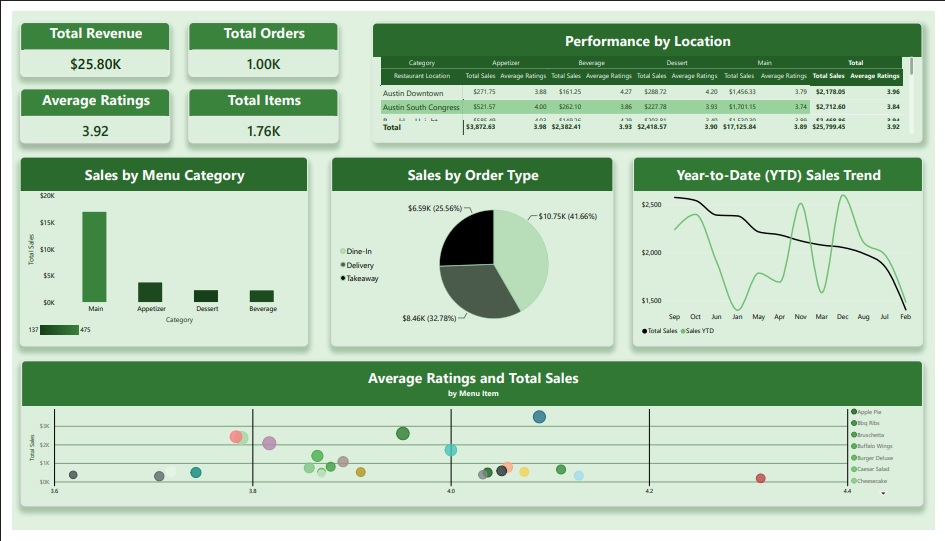

This screenshot's page, from the dashboard's own definition file:
{"tool":"powerbi","page":{"name":"Excecutive Summary","canvas":[1920,1080],"ordinal":0},"visuals":[{"type":"cardVisual","title":"Total Revenue","fields":{"Data":["Restaurant Sales.Total Sales"]},"box":[18,22,312,114],"z":0},{"type":"cardVisual","title":"Total Orders","fields":{"Data":["Restaurant Sales.Total Orders"]},"box":[368,22,312,114],"z":1000},{"type":"cardVisual","title":"Average Ratings","fields":{"Data":["Restaurant Sales.Average Ratings"]},"box":[17.5,160,312,114],"z":2000},{"type":"cardVisual","title":"Total Items","fields":{"Data":["Restaurant Sales.Total Items"]},"box":[367.5,160,312,114],"z":3000},{"type":"lineChart","title":"Year-to-Date (YTD) Sales Trend","fields":{"Category":["Calendar.MONTH"],"Y":["Restaurant Sales.Total Sales"],"Y2":["Restaurant Sales.Sales YTD"]},"box":[1292.6,301.9,603.8,395.4],"z":4000},{"type":"clusteredColumnChart","title":"Sales by Menu Category","fields":{"Category":["Restaurant Sales.Category"],"Y":["Restaurant Sales.Total Sales"]},"box":[17,301.9,599.5,395.4],"z":5000},{"type":"pivotTable","title":"Performance by Location","fields":{"Columns":["Restaurant Sales.Category"],"Rows":["Locations.Restaurant Location"],"Values":["Restaurant Sales.Total Sales","Restaurant Sales.Average Ratings"]},"box":[750,23.3,1145,250],"z":6000},{"type":"pieChart","title":"Sales by Order Type","fields":{"Category":["Restaurant Sales.Order Type"],"Y":["Restaurant Sales.Total Sales"]},"box":[665.4,301.9,586.8,395.4],"z":7000},{"type":"scatterChart","title":"Average Ratings and Total Sales","fields":{"Series":["Restaurant Sales.Menu Item"],"Size":["Sum(Restaurant Sales.Quantity)"],"X":["Restaurant Sales.Average Ratings"],"Y":["Restaurant Sales.Total Sales"]},"box":[19.1,725,1877.5,305],"z":8000}]}

Visuals, with their boxes in screenshot pixels (x1, y1, x2, y2), scaled from the page's 1920x1080 canvas onto the 945x541 screenshot:
"Total Revenue" cardVisual: (9, 11, 162, 68)
"Total Orders" cardVisual: (181, 11, 335, 68)
"Average Ratings" cardVisual: (9, 80, 162, 137)
"Total Items" cardVisual: (181, 80, 334, 137)
"Year-to-Date (YTD) Sales Trend" lineChart: (636, 151, 933, 349)
"Sales by Menu Category" clusteredColumnChart: (8, 151, 303, 349)
"Performance by Location" pivotTable: (369, 12, 933, 137)
"Sales by Order Type" pieChart: (328, 151, 616, 349)
"Average Ratings and Total Sales" scatterChart: (9, 363, 933, 516)
